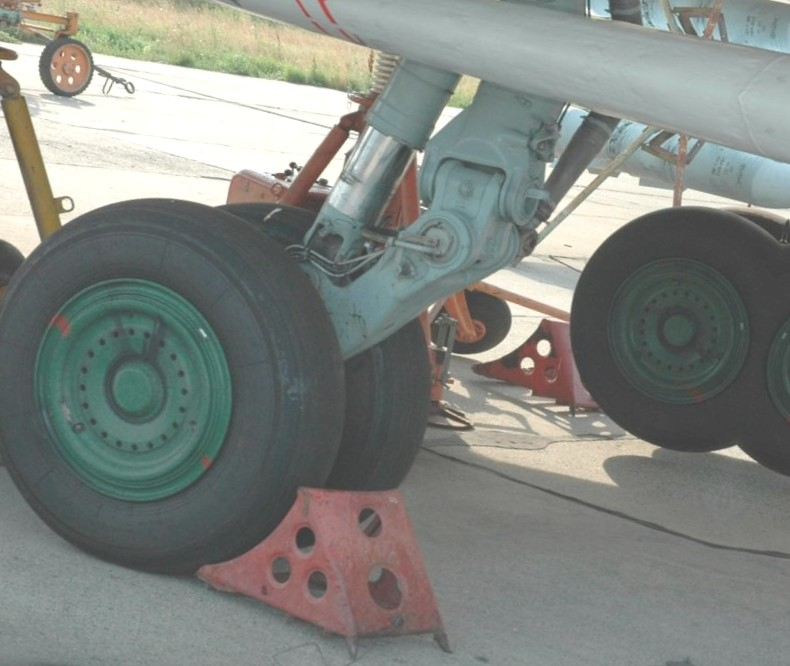chock: (184, 448, 488, 666)
wheel: (0, 161, 386, 607), (546, 176, 789, 466)
